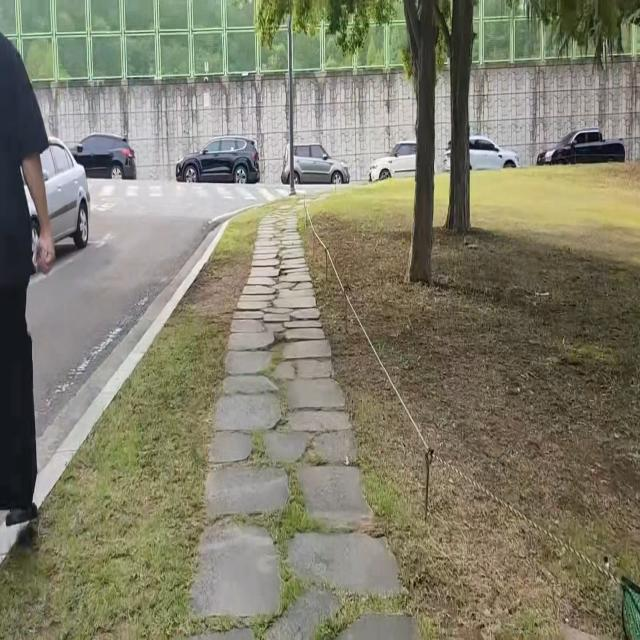obstacle: (0, 22, 64, 545), (33, 117, 98, 283), (171, 130, 267, 190), (66, 123, 140, 187), (278, 129, 354, 190)
road: (29, 181, 292, 477)
